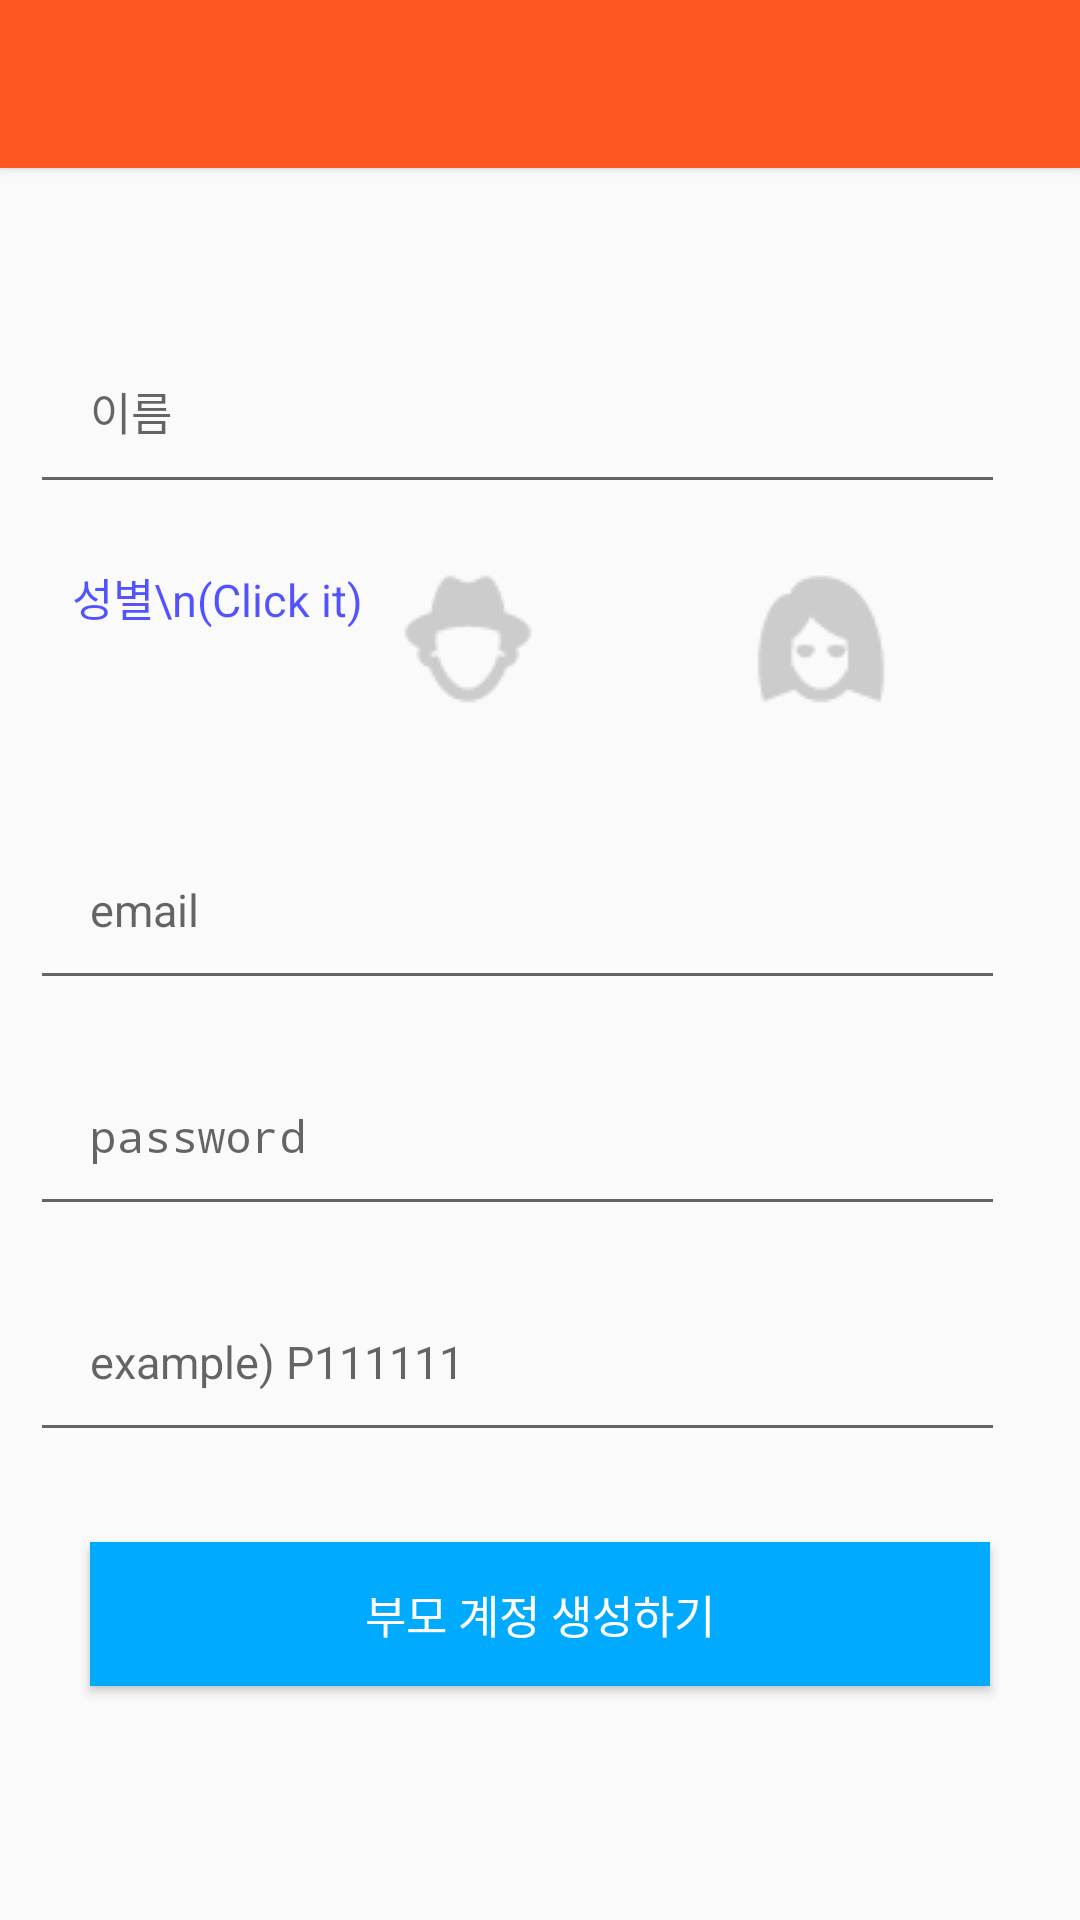

Icons on this 1080×1920 Android screen, each with the point to tap as [x,y]:
man: [468,639]
woman: [821,639]
